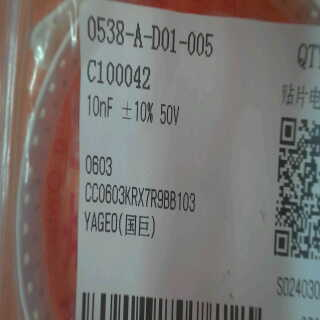10nF: (83, 89, 117, 127)
